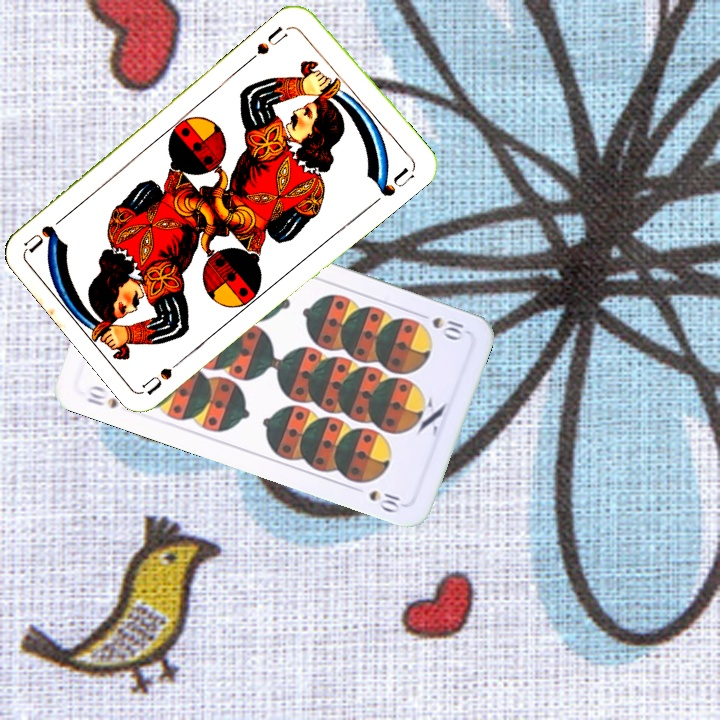S10: (413, 308, 467, 342), (82, 381, 120, 411)
SU: (139, 350, 191, 397), (252, 22, 291, 58)
